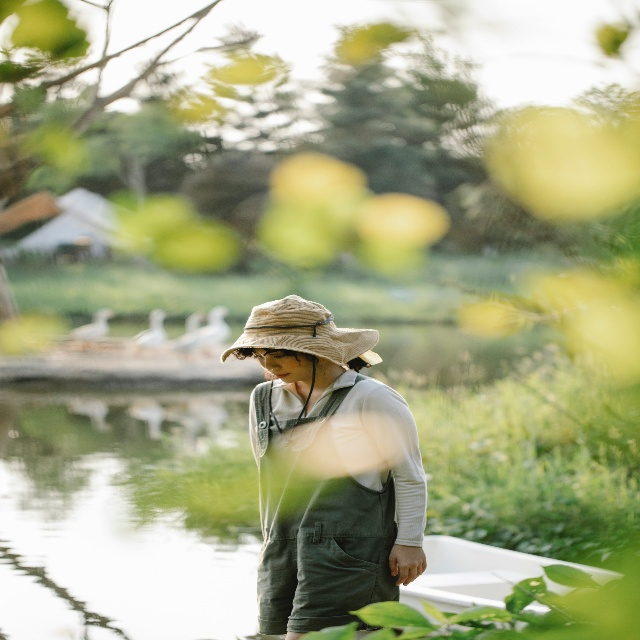Sin_guantes: (388, 544, 427, 587)
